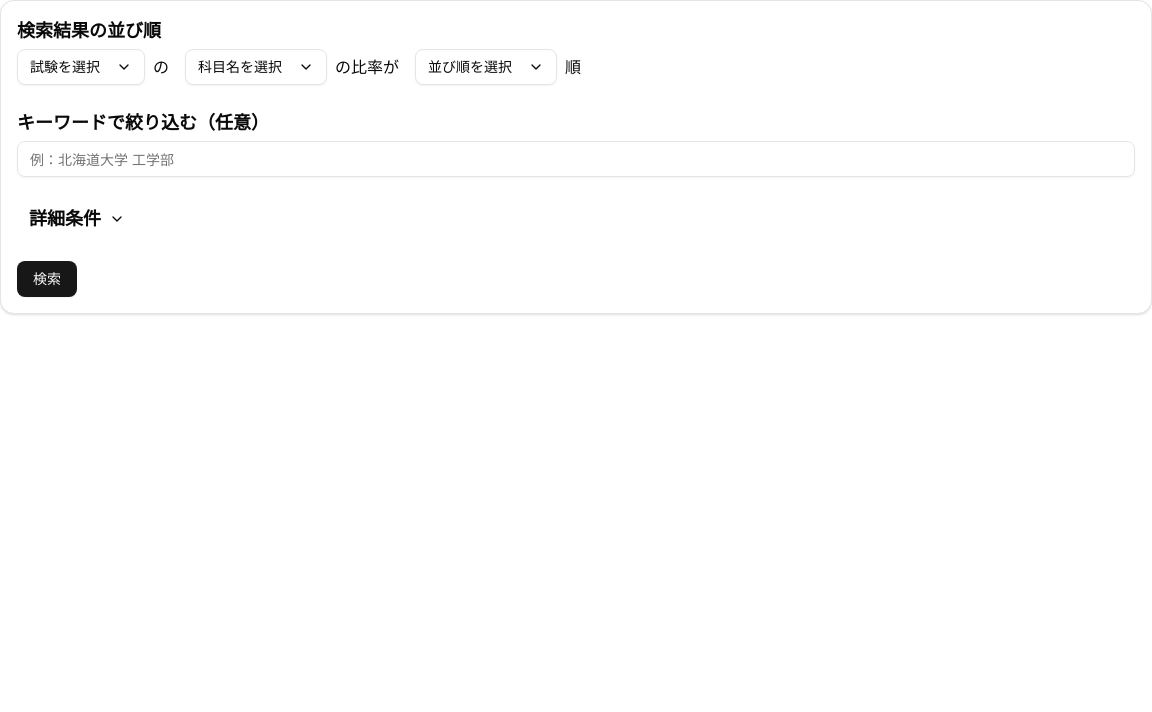
SearchForm › 詳細条件を展開/折りたたみできること
Click the button "詳細条件" at (77, 219), box [17,201,137,237]
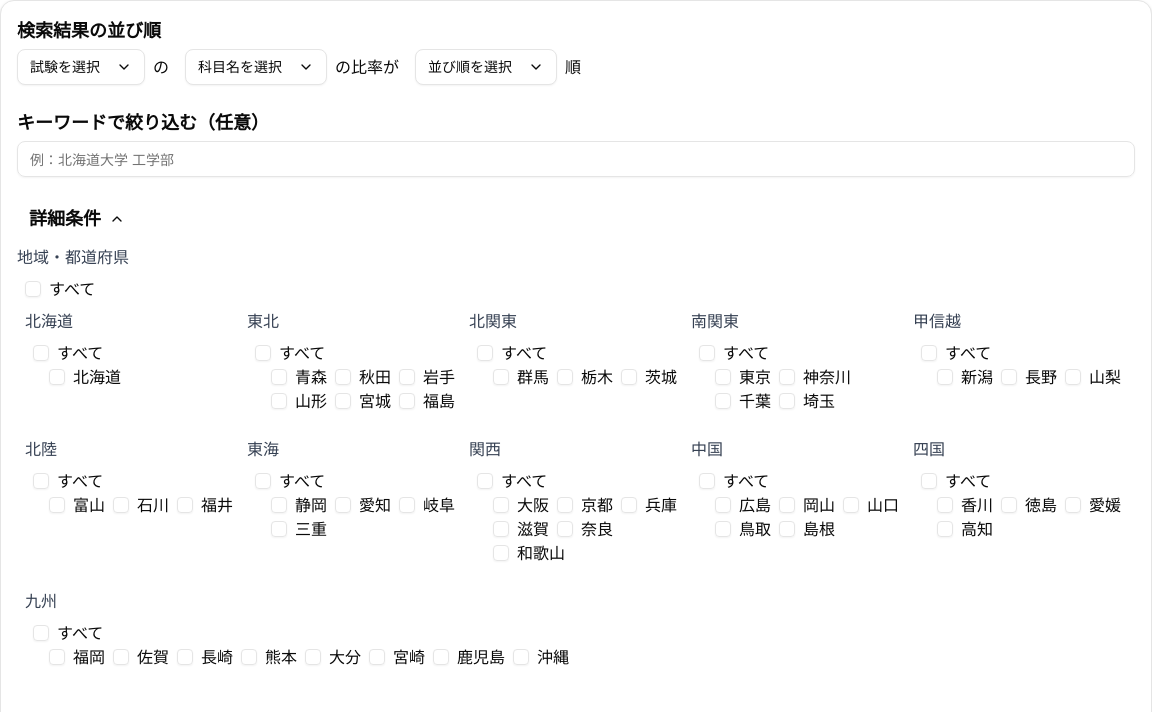
Check: the button "詳細条件" is expanded
# 再度クリックして折りたたむ
Click the button "詳細条件" at (77, 219), box [17,201,137,237]
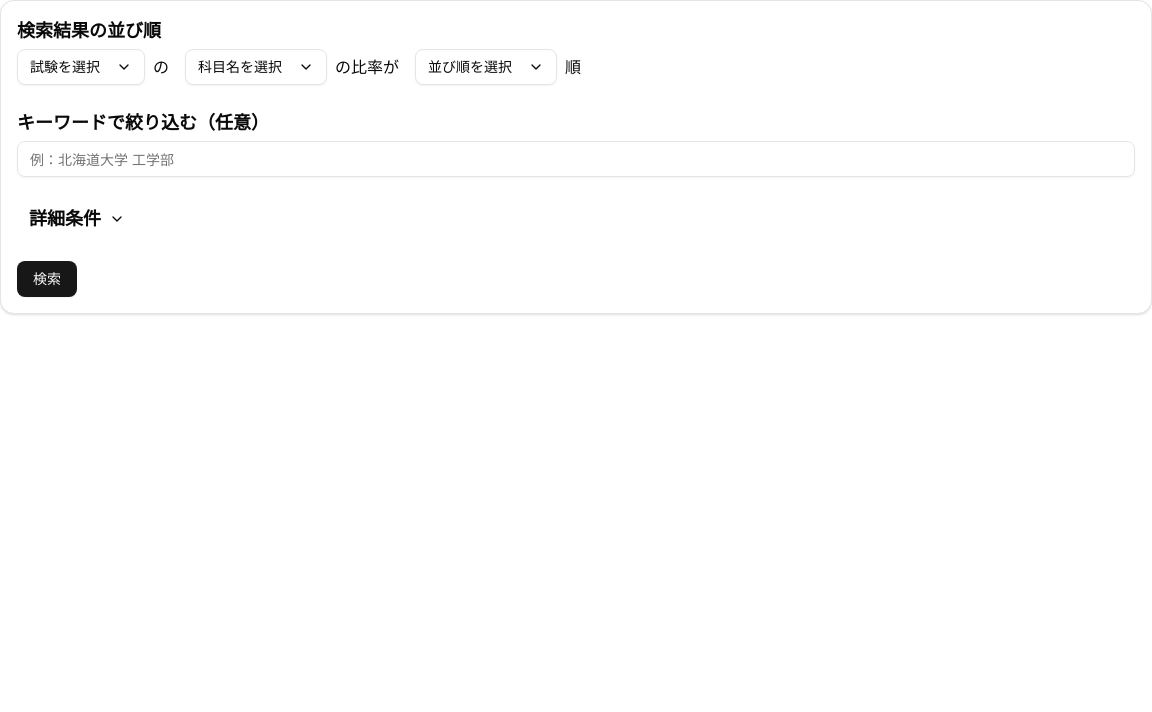
Check: the button "詳細条件" is collapsed, box [17,201,137,237]
